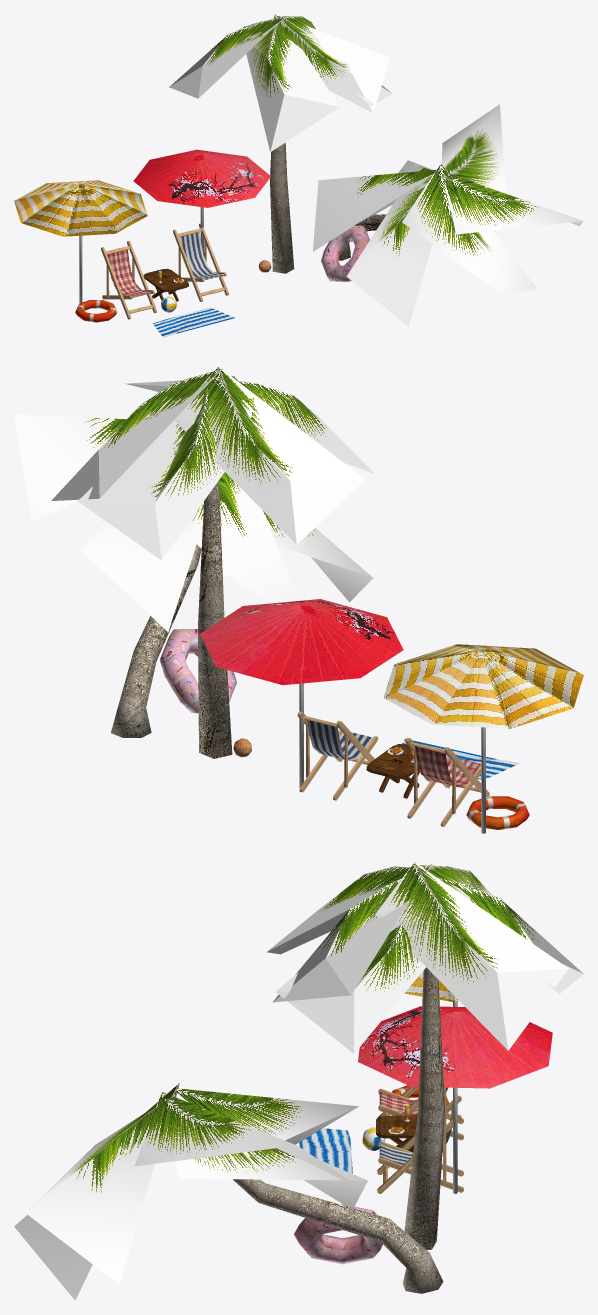
The model's file is psxBeachPack.glb.
The picture shows the model from 3 angles, top to bottom: view 1: azimuth 30°, elevation 25°; view 2: azimuth 150°, elevation 25°; view 3: azimuth 270°, elevation 25°; orthographic projection. The views are drawn at different scales.
Visible parts, largest first — view 1: Palm1_Palm_0, Umbrella2_Umbrella2_0, Umbrella1_Umbrella1_0, SunLounger1_SunLounger1_0, SunLounger2_SunLounger2_0, SwimmingRing_SwimmingRing_0, Towel_Towel_0, Table_Table_0, Lifebuoy_lifebuoy_0; view 2: Palm1_Palm_0, Umbrella2_Umbrella2_0, Umbrella1_Umbrella1_0, SunLounger1_SunLounger1_0, SunLounger2_SunLounger2_0, SwimmingRing_SwimmingRing_0, Lifebuoy_lifebuoy_0, Table_Table_0, Towel_Towel_0; view 3: Palm1_Palm_0, Umbrella1_Umbrella1_0, SwimmingRing_SwimmingRing_0, SunLounger2_SunLounger2_0, Towel_Towel_0, SunLounger1_SunLounger1_0, Table_Table_0.
Part boxes in pixels (x1=…): Palm1_Palm_0: x1=169, y1=14, x2=583, y2=326; Umbrella2_Umbrella2_0: x1=14, y1=180, x2=147, y2=303; Umbrella1_Umbrella1_0: x1=133, y1=149, x2=270, y2=255; SunLounger1_SunLounger1_0: x1=101, y1=241, x2=156, y2=319; SunLounger2_SunLounger2_0: x1=173, y1=223, x2=228, y2=301; SwimmingRing_SwimmingRing_0: x1=321, y1=225, x2=369, y2=281; Towel_Towel_0: x1=153, y1=307, x2=234, y2=337; Table_Table_0: x1=143, y1=268, x2=188, y2=301; Lifebuoy_lifebuoy_0: x1=75, y1=300, x2=117, y2=322; Palm1_Palm_0: x1=14, y1=366, x2=374, y2=758; Umbrella2_Umbrella2_0: x1=383, y1=644, x2=583, y2=833; Umbrella1_Umbrella1_0: x1=199, y1=599, x2=403, y2=788; SunLounger1_SunLounger1_0: x1=405, y1=737, x2=489, y2=826; SunLounger2_SunLounger2_0: x1=297, y1=711, x2=378, y2=800; SwimmingRing_SwimmingRing_0: x1=160, y1=629, x2=236, y2=713; Lifebuoy_lifebuoy_0: x1=466, y1=796, x2=529, y2=829; Table_Table_0: x1=366, y1=744, x2=419, y2=798; Towel_Towel_0: x1=402, y1=739, x2=519, y2=779; Palm1_Palm_0: x1=14, y1=862, x2=583, y2=1300; Umbrella1_Umbrella1_0: x1=358, y1=1006, x2=552, y2=1193; SwimmingRing_SwimmingRing_0: x1=294, y1=1204, x2=382, y2=1264; SunLounger2_SunLounger2_0: x1=377, y1=1095, x2=463, y2=1193; Towel_Towel_0: x1=299, y1=1128, x2=352, y2=1173; SunLounger1_SunLounger1_0: x1=377, y1=1086, x2=463, y2=1140; Table_Table_0: x1=376, y1=1115, x2=417, y2=1152.
Size of the model in its own units: 9 by 4.92 by 6.67.
Materials: 15 (14 with a texture image).
